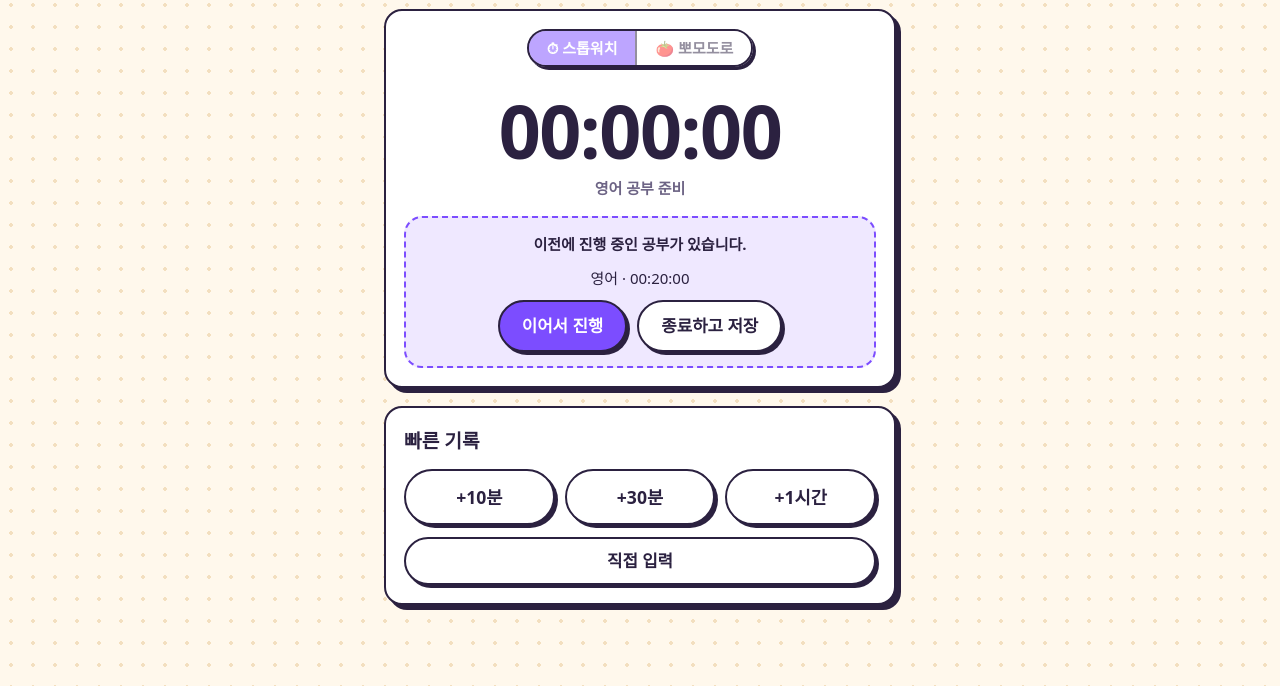
StudyTimerPage › offers to resume a session that was open before the refresh (AC-06)
(page scrolled)
Check: the text "영어 · 00:20:00" is shown, box [590,268,690,288]
Check: the text "00:20:00" is shown, box [630,268,690,288]
Click the button "이어서 진행": (562, 326) [498,300,627,352]
(page scrolled)
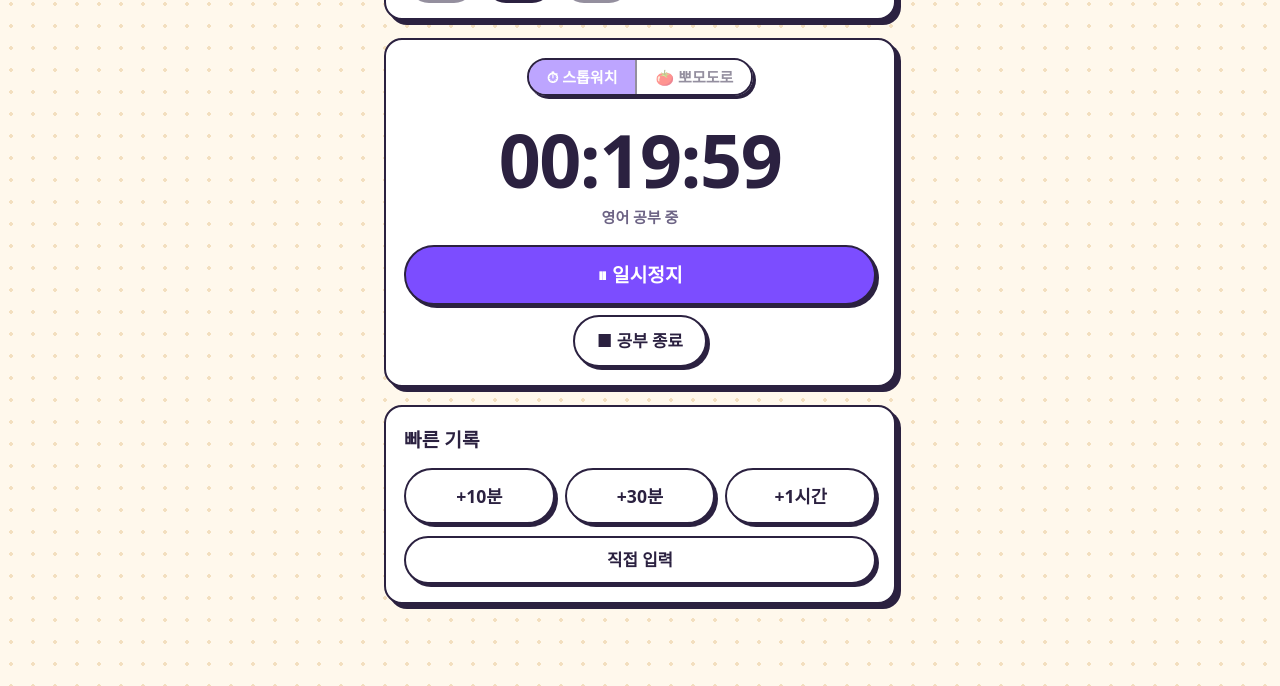
Check: the text "영어 공부 중" is shown, box [602,207,678,227]
Check: the button "⏸ 일시정지" is shown, box [404,245,876,305]
